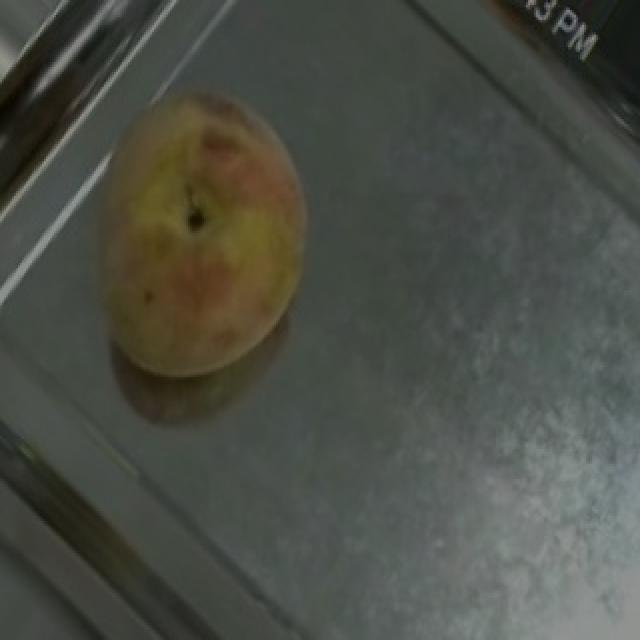Fruit: (42, 39, 360, 422)
